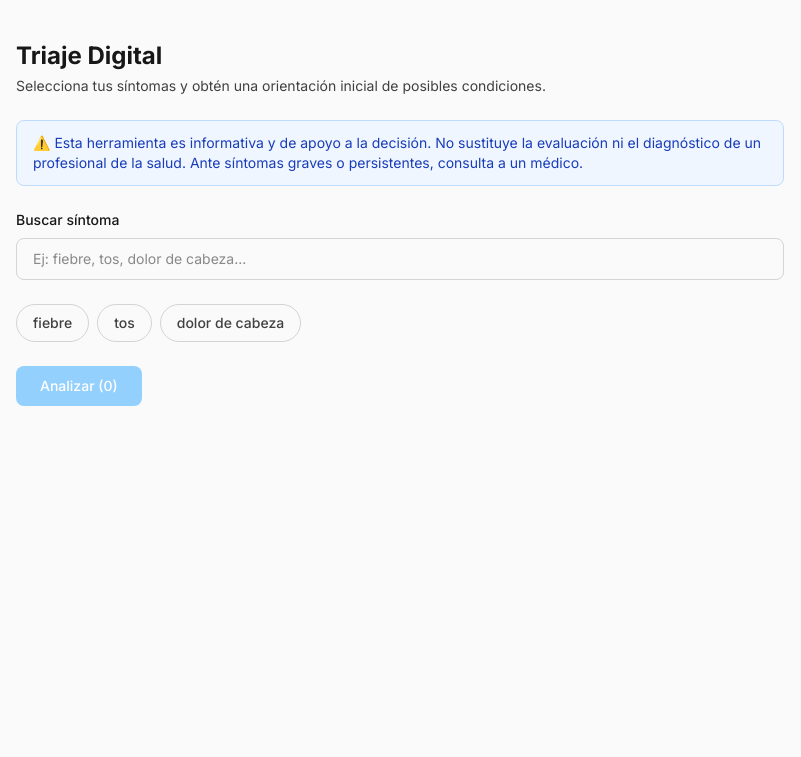
Scenario: TriageForm › analiza los síntomas seleccionados y muestra los resultados
The image size is (801, 757).
What coordinates should you click on to do the following:
click the button "fiebre"
I would click on:
 (53, 323)
Its box is [16,304,89,342].
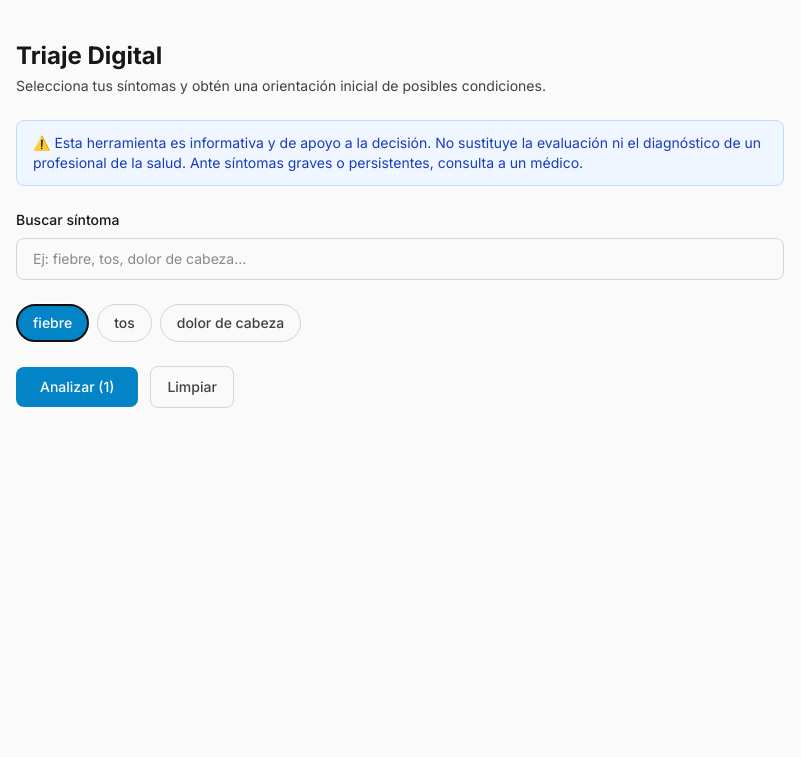
What coordinates should you click on to do the following:
click the button "tos"
I would click on:
 (124, 323)
Its box is [97,304,152,342].
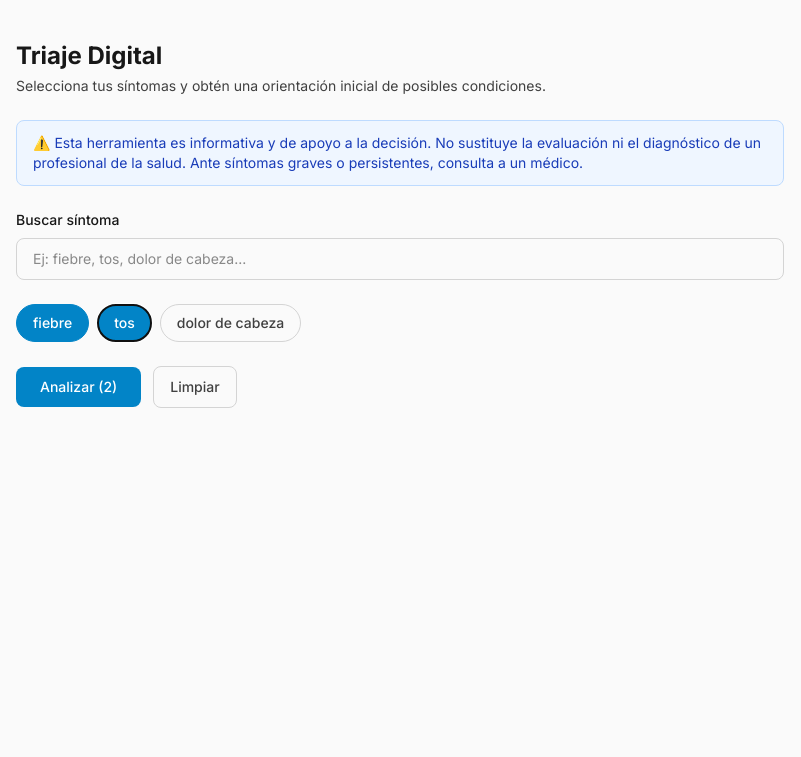
What coordinates should you click on to do the following:
click the button "Analizar (2)"
I would click on:
 (79, 387)
Its box is [16,367,141,407].
(page scrolled)
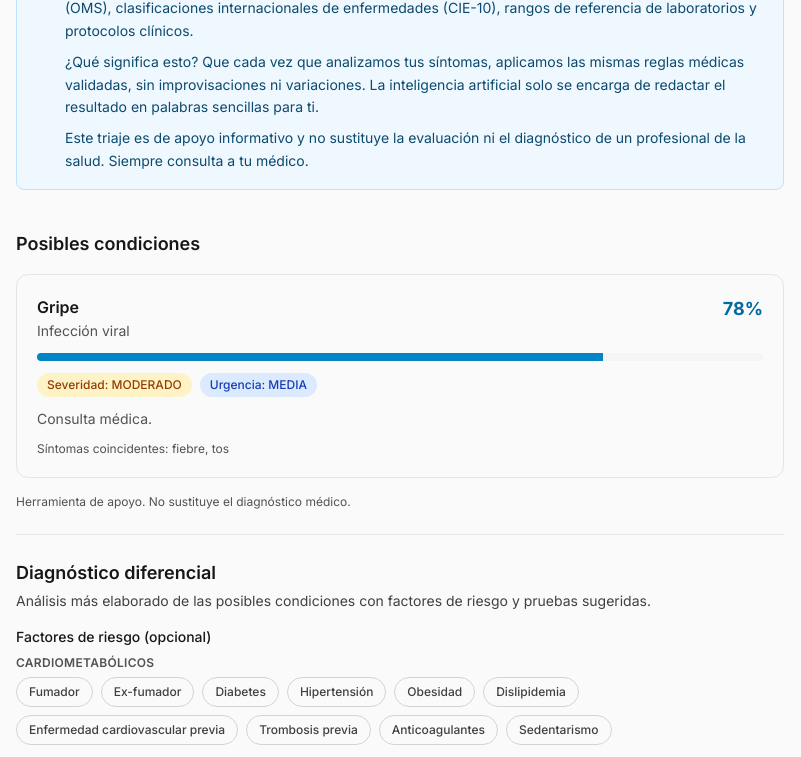
Expected: the heading "Gripe" is shown, [37,296,79,316]
Expected: the text "78%" is shown, [723,294,763,322]
Expected: the text "Severidad: MODERADO" is shown, [37,372,192,396]
